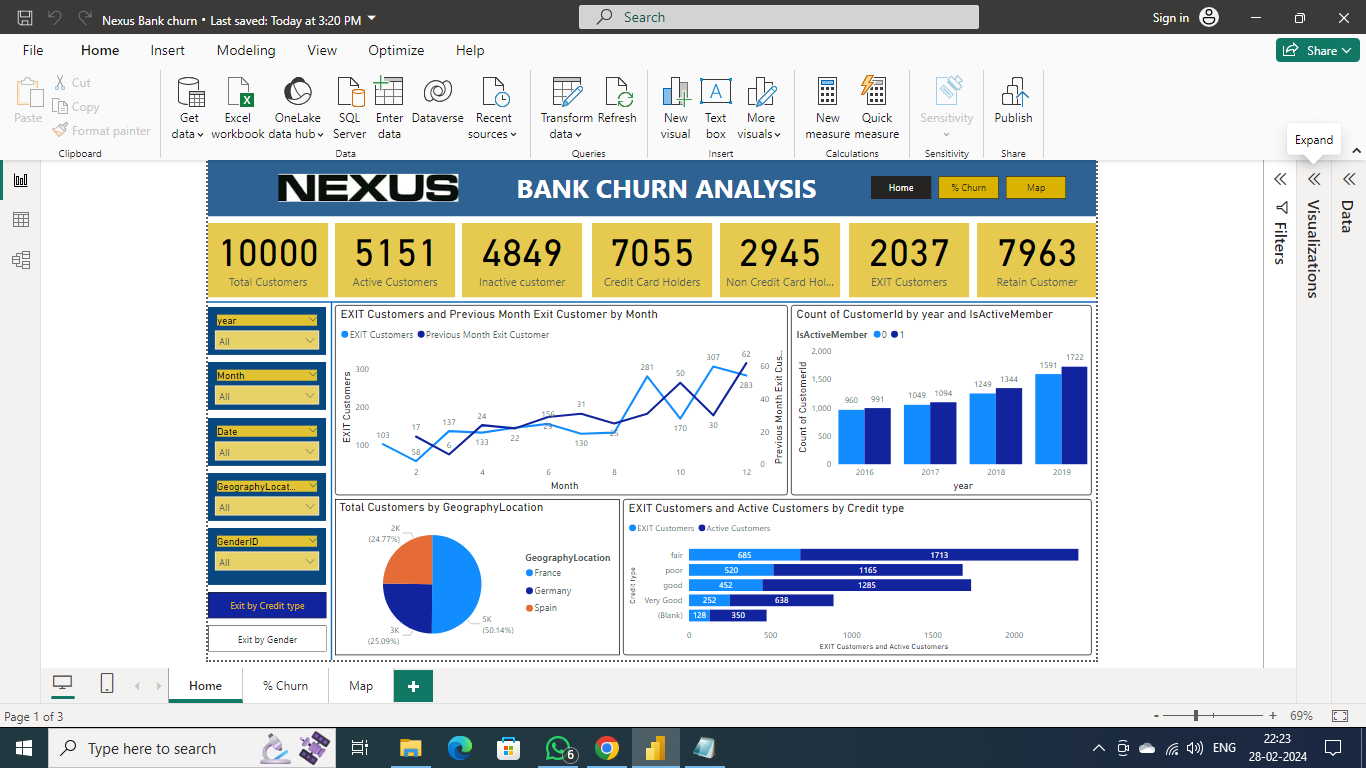

The dashboard page shown, as its layout file describes it:
{"tool":"powerbi","page":{"name":"Home","canvas":[1280,720],"ordinal":0},"visuals":[{"type":"card","fields":{"Values":["Calculations.Total Customers"]},"box":[0,90.7,172.8,106.6],"z":0},{"type":"textbox","box":[0,0,1280.2,80.6],"z":1000},{"type":"card","fields":{"Values":["Calculations.Active Customers"]},"box":[182.9,90.7,172.8,106.6],"z":2000},{"type":"card","fields":{"Values":["Calculations.Inactive customer"]},"box":[365.8,90.7,172.8,106.6],"z":3000},{"type":"card","fields":{"Values":["Calculations.Credit Card Holders"]},"box":[553,90.7,172.8,106.6],"z":4000},{"type":"card","fields":{"Values":["Calculations.Non Credit Card Holders"]},"box":[737.3,90.7,172.8,106.6],"z":5000},{"type":"card","fields":{"Values":["Calculations.EXIT Customers"]},"box":[923,90.7,172.8,106.6],"z":6000},{"type":"card","fields":{"Values":["Calculations.Retain Customer"]},"box":[1107.4,90.7,172.8,106.6],"z":7000},{"type":"shape","box":[0,197.3,1280.2,14.4],"z":8000},{"type":"shape","box":[172.8,204.5,10.1,515.5],"z":9000},{"type":"slicer","fields":{"Values":["Date Master.year"]},"box":[0,211.7,169.9,69.1],"z":10000},{"type":"slicer","fields":{"Values":["Date Master.Month"]},"box":[0,290.9,169.9,69.1],"z":11000},{"type":"clusteredColumnChart","fields":{"Category":["Date Master.year","Date Master.Month"],"Y":["Bank_Churn.CustomerId"],"Series":["Bank_Churn.IsActiveMember"]},"box":[839,209,433.4,273.6],"z":12000},{"type":"lineChart","fields":{"Category":["Date Master.Month"],"Y":["Calculations.EXIT Customers"],"Y2":["Calculations.Previous Month Exit Customer"]},"box":[182.9,209,652.3,273.6],"z":13000},{"type":"barChart","fields":{"Category":["Bank_Churn.Credit type"],"Y":["Calculations.EXIT Customers","Calculations.Active Customers"]},"box":[597.6,488.2,675.4,224.6],"z":15000},{"type":"slicer","fields":{"Values":["Date Master.Date"]},"box":[0,371.5,169.9,69.1],"z":16000},{"type":"bookmarkNavigator","box":[0,622.1,171.4,86.4],"z":17000},{"type":"pageNavigator","box":[954.7,23,282.2,33.1],"z":18000},{"type":"slicer","fields":{"Values":["Geography.GeographyLocation"]},"box":[0,450.7,169.9,69.1],"z":21000},{"type":"slicer","fields":{"Values":["Gender.GenderID"]},"box":[0,529.9,169.9,82.1],"z":22000},{"type":"pieChart","fields":{"Y":["Calculations.Total Customers"],"Category":["Geography.GeographyLocation"]},"box":[182.9,488.2,410,224.6],"z":23000},{"type":"image","box":[96.5,0,269.3,80.6],"z":24000}]}

Visuals, with their boxes on the page's 1280x720 design canvas (x1, y1, x2, y2). These are canvas units, not pixel positions in the 1366x768 screenshot, which may show the page scaled, cropped or inside an application window:
card - Calculations.Total Customers: [x1=0, y1=91, x2=173, y2=197]
textbox: [x1=0, y1=0, x2=1280, y2=81]
card - Calculations.Active Customers: [x1=183, y1=91, x2=356, y2=197]
card - Calculations.Inactive customer: [x1=366, y1=91, x2=539, y2=197]
card - Calculations.Credit Card Holders: [x1=553, y1=91, x2=726, y2=197]
card - Calculations.Non Credit Card Holders: [x1=737, y1=91, x2=910, y2=197]
card - Calculations.EXIT Customers: [x1=923, y1=91, x2=1096, y2=197]
card - Calculations.Retain Customer: [x1=1107, y1=91, x2=1280, y2=197]
shape: [x1=0, y1=197, x2=1280, y2=212]
shape: [x1=173, y1=204, x2=183, y2=720]
slicer - Date Master.year: [x1=0, y1=212, x2=170, y2=281]
slicer - Date Master.Month: [x1=0, y1=291, x2=170, y2=360]
clusteredColumnChart - Date Master.year x Date Master.Month: [x1=839, y1=209, x2=1272, y2=483]
lineChart - Date Master.Month x Calculations.EXIT Customers: [x1=183, y1=209, x2=835, y2=483]
barChart - Bank_Churn.Credit type x Calculations.EXIT Customers: [x1=598, y1=488, x2=1273, y2=713]
slicer - Date Master.Date: [x1=0, y1=372, x2=170, y2=441]
bookmarkNavigator: [x1=0, y1=622, x2=171, y2=708]
pageNavigator: [x1=955, y1=23, x2=1237, y2=56]
slicer - Geography.GeographyLocation: [x1=0, y1=451, x2=170, y2=520]
slicer - Gender.GenderID: [x1=0, y1=530, x2=170, y2=612]
pieChart - Calculations.Total Customers x Geography.GeographyLocation: [x1=183, y1=488, x2=593, y2=713]
image: [x1=96, y1=0, x2=366, y2=81]
